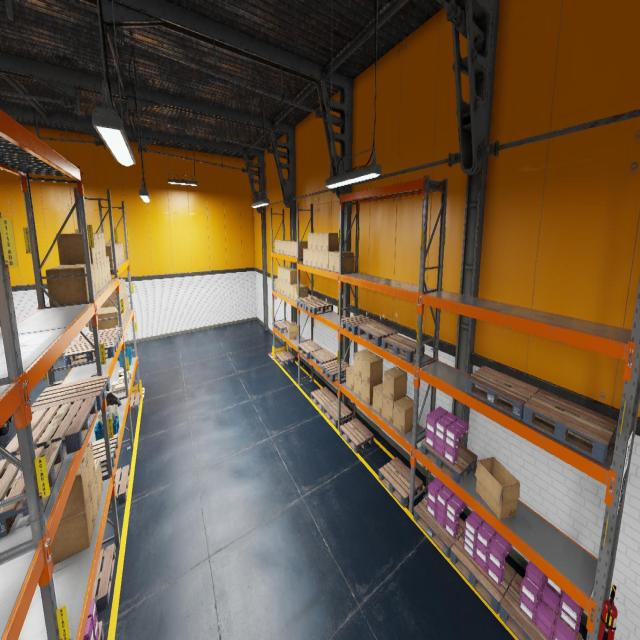box: (51, 491, 94, 565), (474, 457, 520, 519), (60, 456, 90, 522), (45, 266, 89, 305), (56, 233, 97, 265), (55, 264, 96, 294), (383, 366, 407, 402), (393, 396, 413, 434), (382, 395, 406, 425), (361, 354, 383, 384), (82, 442, 96, 489), (354, 349, 374, 378), (361, 379, 382, 405), (100, 284, 122, 308), (97, 309, 119, 330), (94, 458, 103, 504), (99, 306, 122, 324), (91, 474, 99, 524), (335, 252, 353, 272), (328, 251, 346, 271), (373, 383, 383, 416), (105, 243, 123, 261), (105, 243, 124, 260), (105, 244, 122, 262), (105, 244, 120, 264), (322, 233, 338, 251), (105, 245, 119, 265), (290, 283, 304, 300), (346, 364, 354, 392), (294, 284, 308, 300), (105, 245, 117, 263), (93, 262, 100, 292), (286, 269, 300, 284), (294, 241, 307, 257), (105, 245, 114, 268), (354, 373, 362, 398), (283, 268, 296, 283), (280, 266, 292, 282), (287, 322, 297, 339), (97, 261, 103, 289), (94, 234, 100, 262), (280, 240, 292, 254), (290, 241, 300, 256), (118, 371, 130, 383), (287, 240, 296, 256), (278, 266, 288, 280), (119, 279, 126, 298), (98, 234, 103, 260), (101, 260, 106, 286), (106, 256, 111, 282), (111, 380, 123, 390), (101, 234, 106, 258), (119, 281, 125, 300), (114, 383, 125, 393), (104, 258, 108, 284), (323, 251, 328, 270), (119, 283, 124, 301), (121, 370, 132, 378), (312, 233, 317, 250), (312, 250, 317, 267), (118, 369, 128, 377), (307, 233, 312, 249), (318, 250, 322, 268), (318, 233, 322, 251), (304, 248, 308, 265), (277, 240, 282, 253), (308, 250, 312, 266), (124, 299, 127, 317), (125, 296, 128, 314), (126, 294, 129, 312), (280, 281, 284, 294), (274, 240, 278, 253), (287, 284, 290, 298), (275, 278, 278, 291), (284, 282, 286, 296), (284, 241, 286, 254), (278, 280, 280, 292), (122, 314, 124, 324), (124, 301, 125, 320)
forklift: (0, 418, 9, 436)
pallets: (522, 389, 618, 463), (1, 396, 98, 461), (0, 440, 64, 538), (499, 573, 582, 639), (450, 532, 516, 614), (465, 366, 539, 419), (31, 374, 110, 423), (413, 495, 465, 558), (421, 439, 477, 484), (378, 457, 422, 507), (91, 543, 115, 613), (64, 336, 118, 366), (339, 418, 374, 453), (382, 334, 424, 362), (92, 434, 119, 473), (108, 464, 130, 510), (358, 322, 397, 346), (74, 326, 122, 344), (323, 399, 352, 427), (341, 314, 376, 334), (321, 359, 350, 382), (311, 387, 337, 411), (310, 348, 337, 368), (298, 340, 322, 359), (305, 300, 333, 315), (296, 296, 322, 309), (276, 350, 295, 366), (127, 392, 140, 414), (274, 321, 289, 333), (98, 621, 104, 639)
